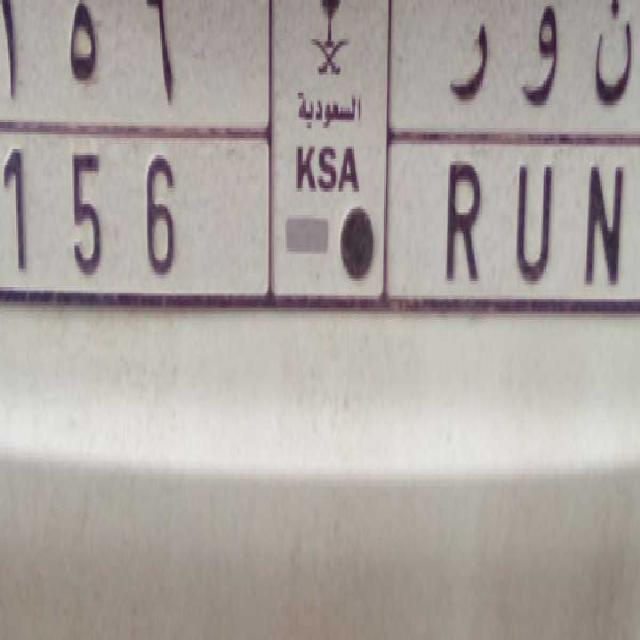license_plate: (1, 112, 640, 344)
